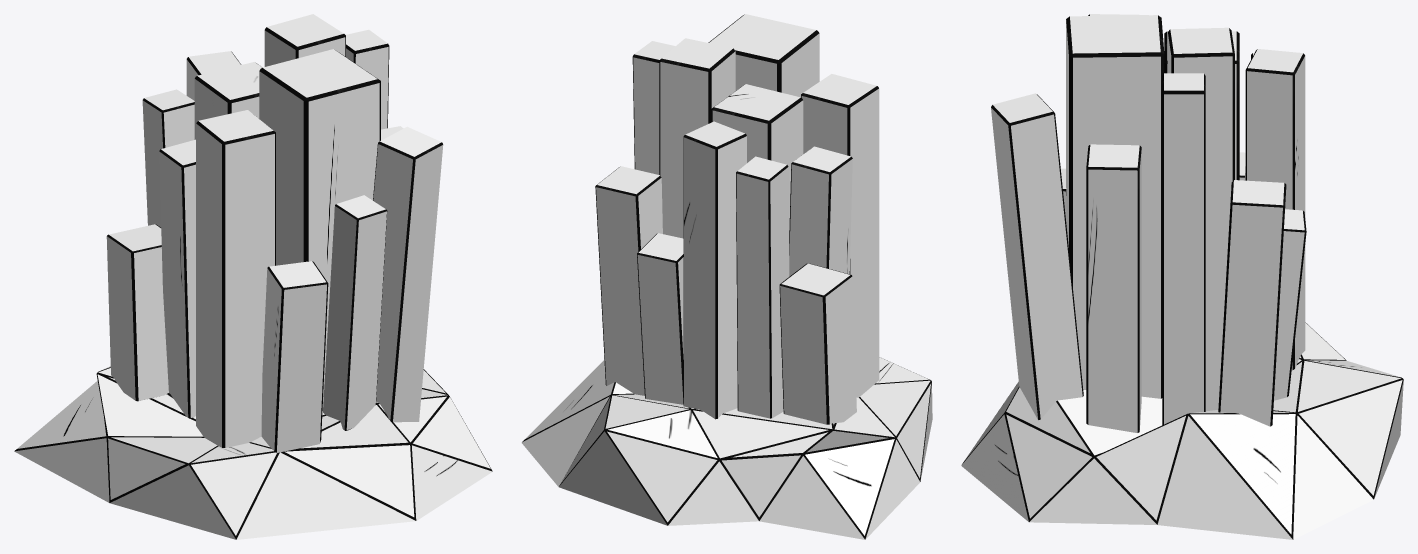
The model's file is Mineral2.fbx.
The picture shows the model from 3 angles, left to right: view 1: azimuth 30°, elevation 25°; view 2: azimuth 150°, elevation 25°; view 3: azimuth 270°, elevation 25°; orthographic projection. The views are drawn at different scales.
Visible parts, largest first — view 1: Cube.015, Icosphere.002; view 2: Cube.015, Icosphere.002; view 3: Cube.015, Icosphere.002.
Boxes of the visible parts, bbox=[...] form: Cube.015: bbox=[106, 14, 443, 452]; Icosphere.002: bbox=[14, 366, 492, 539]; Cube.015: bbox=[595, 14, 879, 424]; Icosphere.002: bbox=[521, 357, 932, 539]; Cube.015: bbox=[991, 14, 1306, 432]; Icosphere.002: bbox=[961, 322, 1403, 539].
Size of the model in its own units: 4.49 by 4.69 by 4.4.
